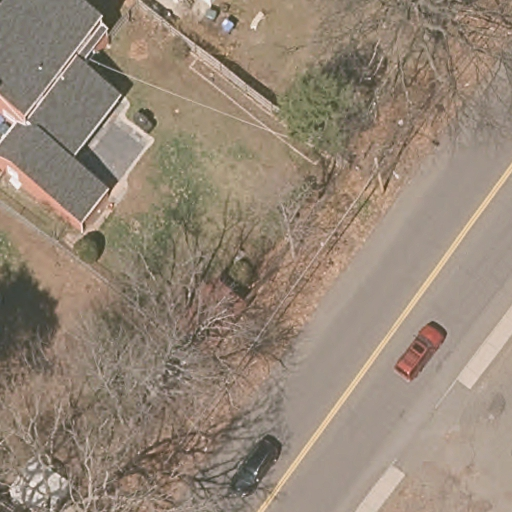DT: (362, 156, 393, 193)
